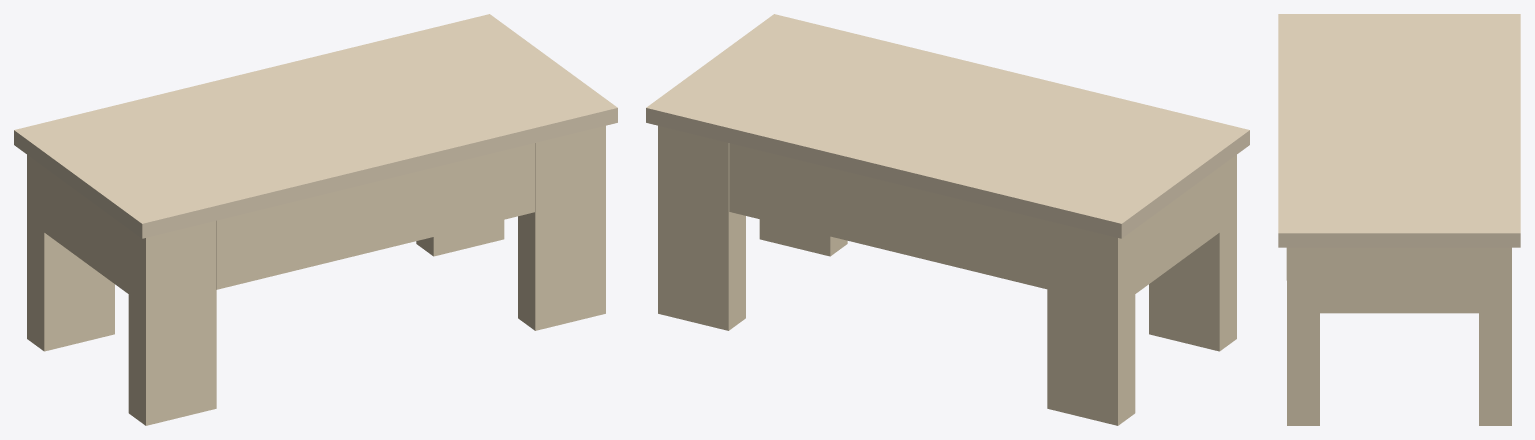
Rendered from natural.glb.
3 renders of one model, left to right at view 1: azimuth 30°, elevation 25°; view 2: azimuth 150°, elevation 25°; view 3: azimuth 270°, elevation 25°, orthographic. The views are drawn at different scales.
Parts seen in each view (by area): view 1: top.1, long_apron.2, leg.3, leg.4, leg.1, short_apron.1, leg.2; view 2: top.1, long_apron.1, leg.1, leg.2, leg.3, short_apron.1, leg.4; view 3: top.1, short_apron.2, leg.2, leg.4.
Boxes of the visible parts, left/top/right/bottom form: top.1: left=14, top=14, right=617, bottom=238; long_apron.2: left=216, top=143, right=534, bottom=289; leg.3: left=128, top=221, right=216, bottom=425; leg.4: left=518, top=125, right=605, bottom=330; leg.1: left=27, top=155, right=114, bottom=351; short_apron.1: left=44, top=167, right=128, bottom=293; leg.2: left=416, top=220, right=504, bottom=256; top.1: left=646, top=14, right=1249, bottom=238; long_apron.1: left=729, top=143, right=1047, bottom=289; leg.1: left=1047, top=220, right=1135, bottom=425; leg.2: left=658, top=125, right=745, bottom=330; leg.3: left=1149, top=155, right=1236, bottom=351; short_apron.1: left=1135, top=167, right=1219, bottom=293; leg.4: left=759, top=219, right=847, bottom=256; top.1: left=1278, top=14, right=1520, bottom=247; short_apron.2: left=1320, top=247, right=1478, bottom=313; leg.2: left=1479, top=247, right=1511, bottom=425; leg.4: left=1287, top=247, right=1319, bottom=425.
Size of the model in its own units: 0.6 by 0.25 by 0.28.
